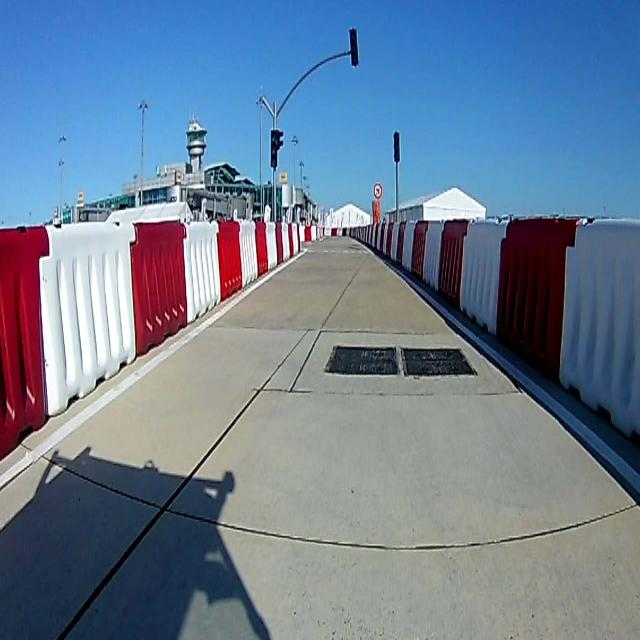soladonulmez: (373, 183, 382, 198)
